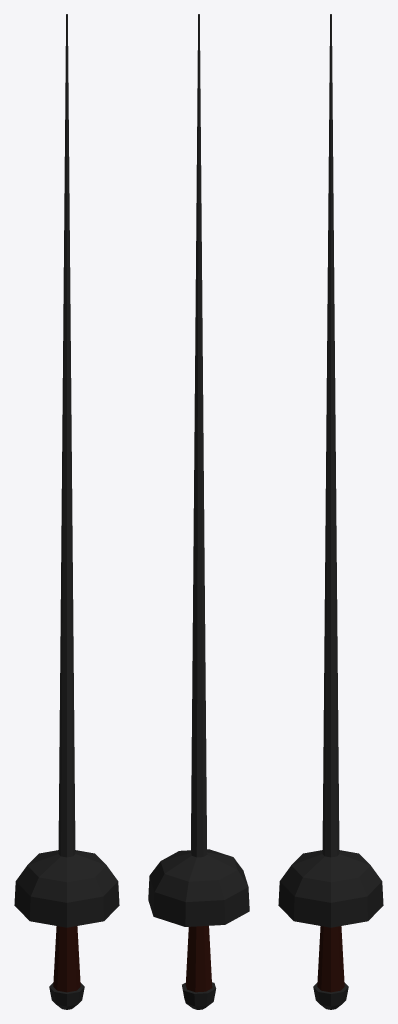
The model's file is rapier.obj.
The picture shows the model from 3 angles, left to right: view 1: azimuth 90°, elevation 25°; view 2: azimuth 210°, elevation 25°; view 3: azimuth 270°, elevation 25°; orthographic projection.
Parts seen in each view (by area): view 1: Rapier_Cube.004; view 2: Rapier_Cube.004; view 3: Rapier_Cube.004.
Part boxes in pixels (x1,y1,x2,y2): Rapier_Cube.004: (14, 14, 119, 1009); Rapier_Cube.004: (148, 14, 249, 1009); Rapier_Cube.004: (278, 14, 383, 1009).
Bounding box in the file's own units: 0.2054 × 2.14 × 0.2053.
